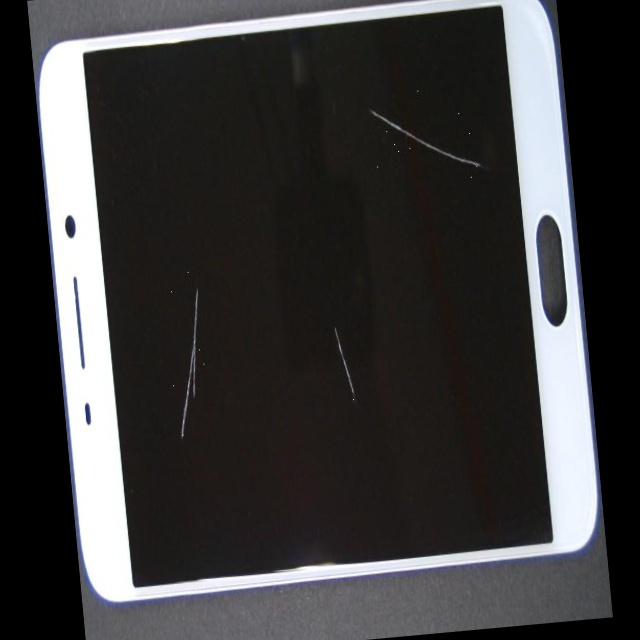scratch: (170, 157, 499, 624), (248, 72, 585, 340), (121, 81, 275, 460)
